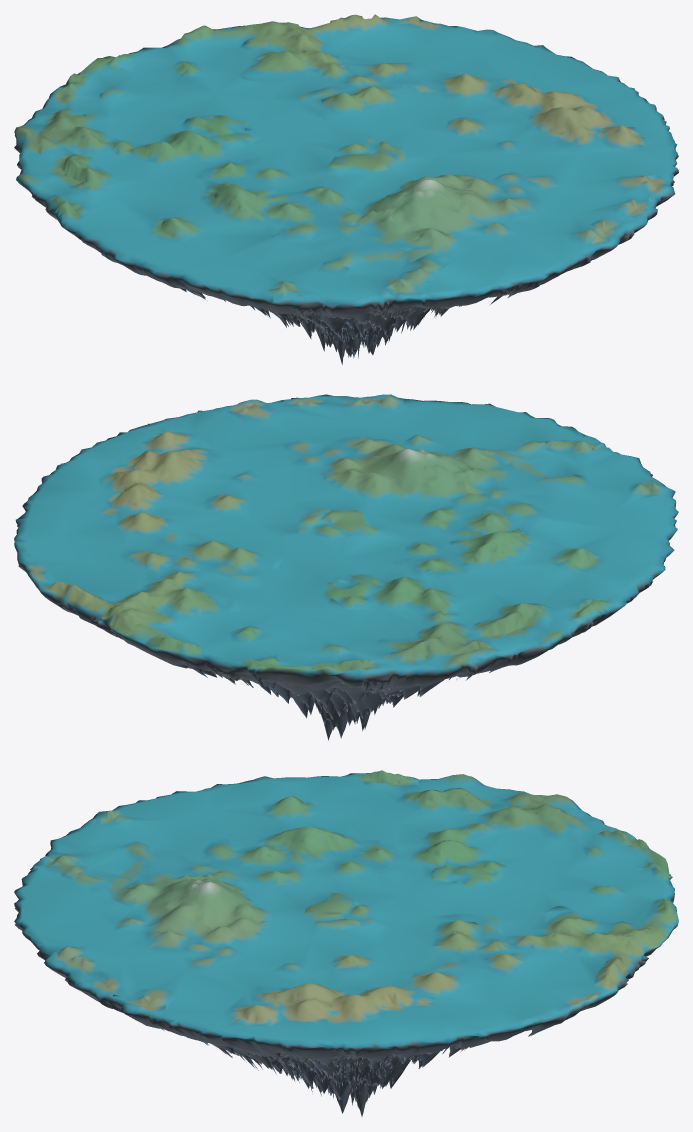
Rendered from celestial_world_runtime_tapered.glb.
The picture shows the model from 3 angles, top to bottom: view 1: azimuth 30°, elevation 25°; view 2: azimuth 150°, elevation 25°; view 3: azimuth 270°, elevation 25°; orthographic projection.
Parts seen in each view (by area): view 1: world; view 2: world; view 3: world.
Part boxes in pixels (x1,y1,x2,y2): world: (14, 14, 678, 364); world: (14, 394, 678, 740); world: (14, 770, 678, 1116).
Bounding box in the file's own units: 14.24 × 5.63 × 14.56.
